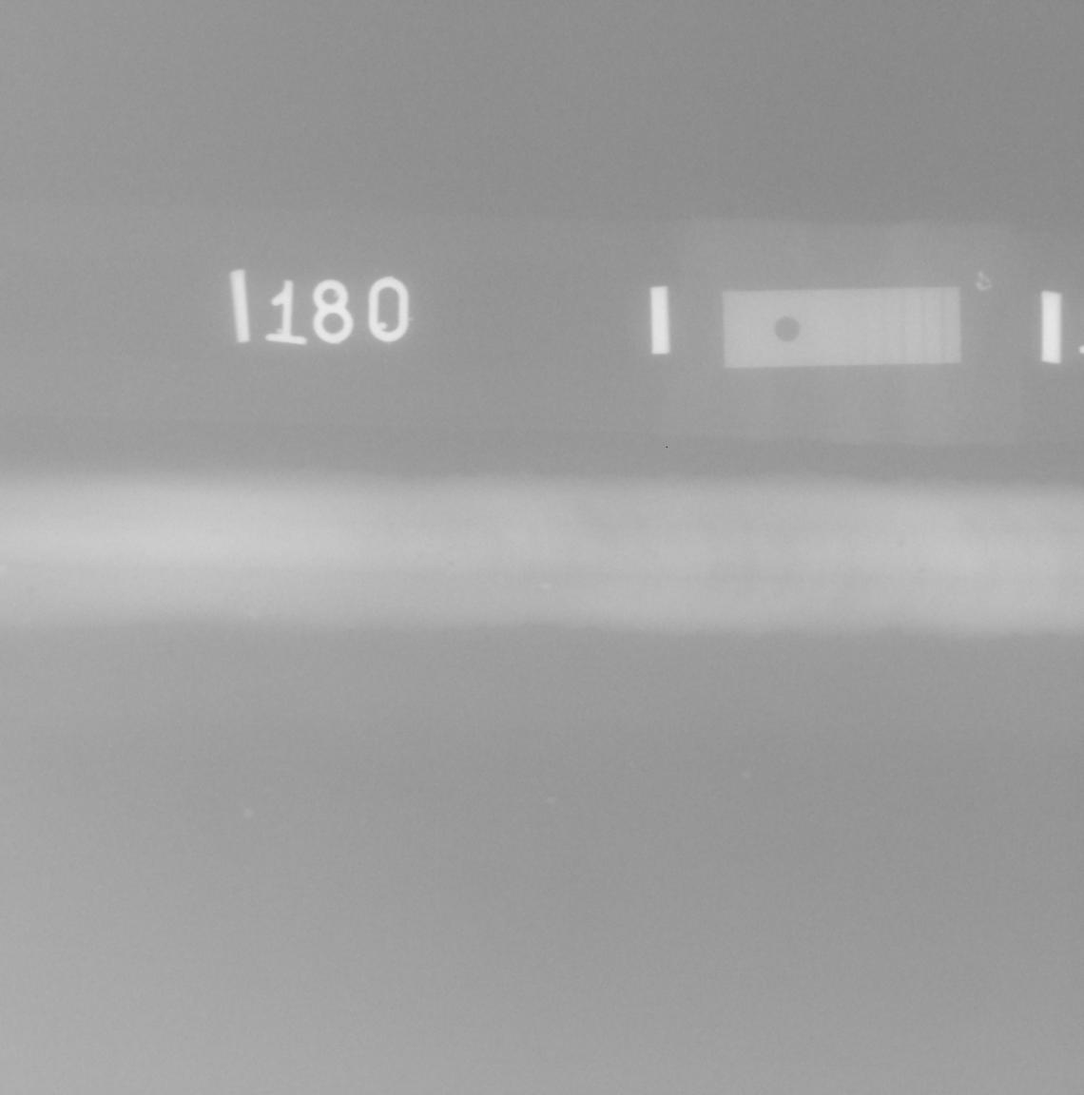Inclusion: (414, 554, 423, 564), (443, 547, 452, 551)
Pore/Porosity: (26, 585, 35, 594), (917, 568, 927, 574), (899, 539, 905, 547), (448, 562, 455, 566)
Reference Standard 1: (723, 286, 961, 368)
